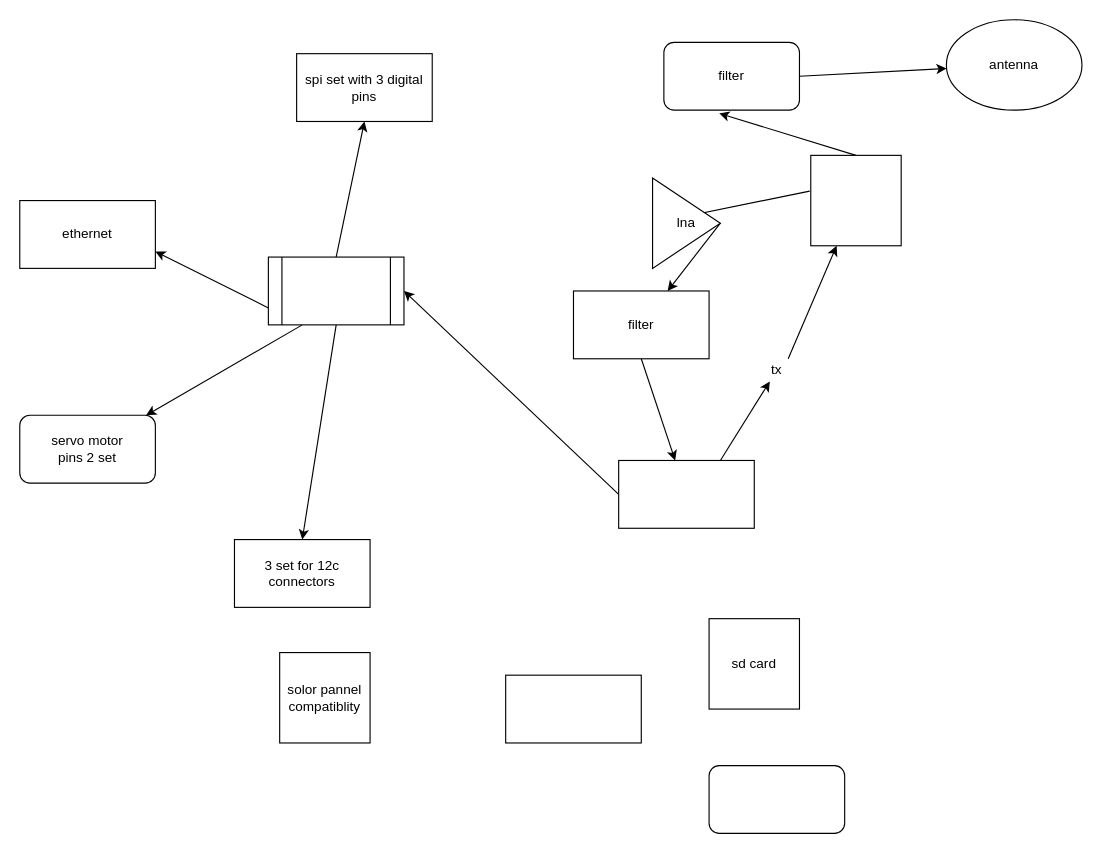
Some shapes in this 1102 by 853 pixel diagram are drawn without their labels. Here are the shapes that lost their labels. From the top down, the box of each, then its label:
(810, 154, 901, 246): frontend
(267, 256, 404, 325): esp 32
(618, 459, 754, 528): sx1268t
(505, 674, 641, 743): battery system
(708, 764, 845, 833): rtc dhip
